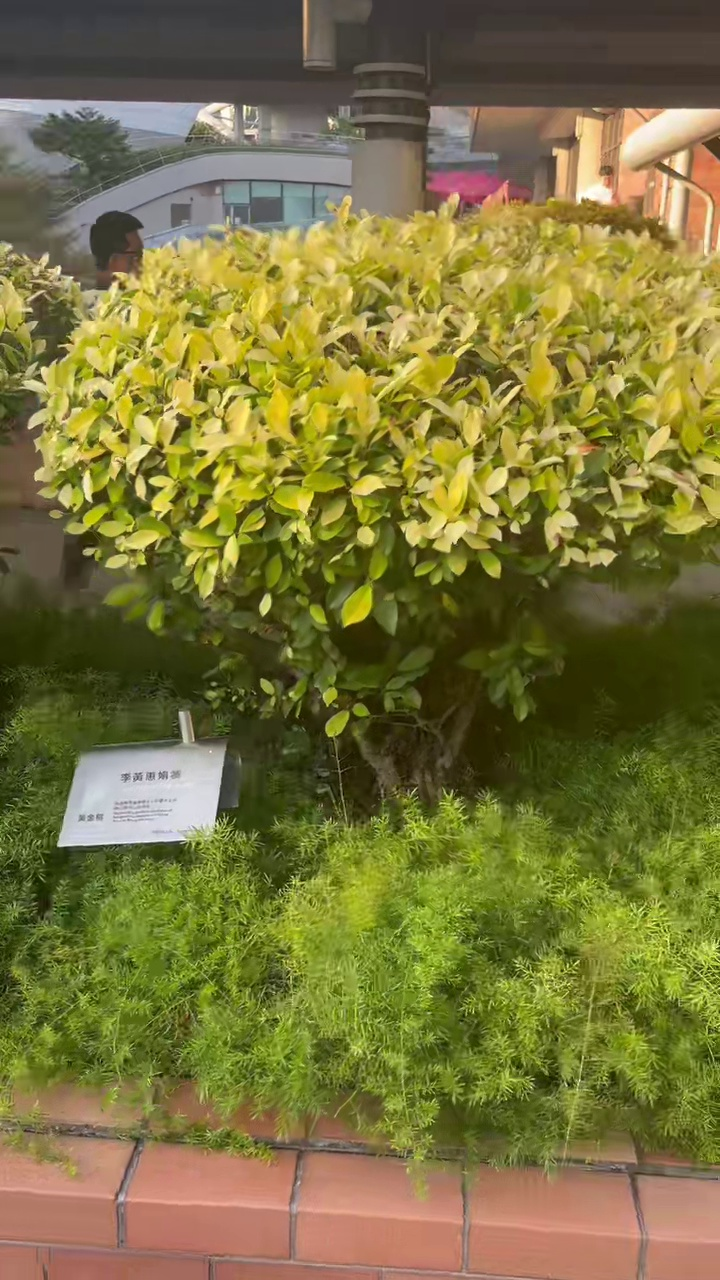Golden-leaves Fig: (37, 201, 719, 790)
